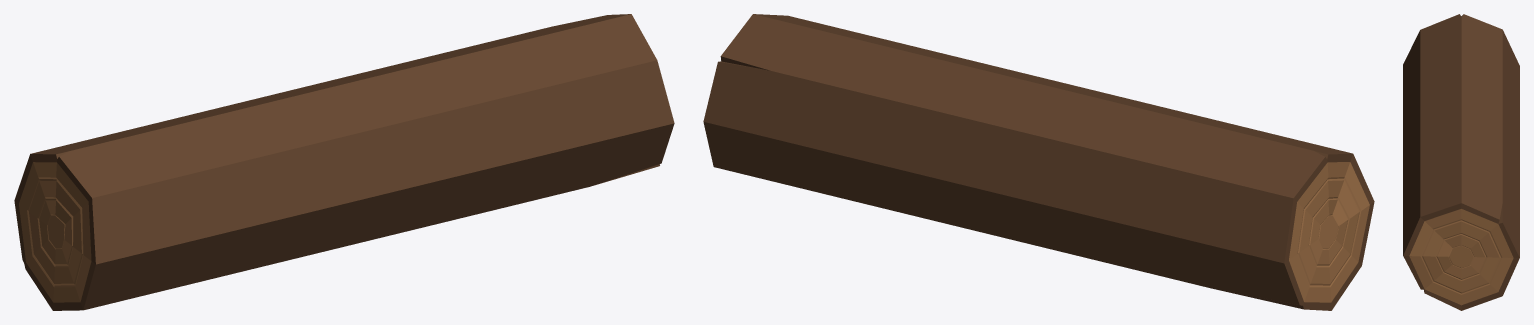
Rendered from woodLog.fbx.
3 views of the same model, side by side, from view 1: azimuth 30°, elevation 25°; view 2: azimuth 150°, elevation 25°; view 3: azimuth 270°, elevation 25° (orthographic). The views are drawn at different scales.
Parts seen in each view (by area): view 1: WoodLog; view 2: WoodLog; view 3: WoodLog.
Boxes of the visible parts, bbox=[...] form: WoodLog: bbox=[14, 14, 674, 310]; WoodLog: bbox=[703, 14, 1374, 310]; WoodLog: bbox=[1403, 14, 1519, 310].
Bounding box in the file's own units: 276 × 70 × 70.
